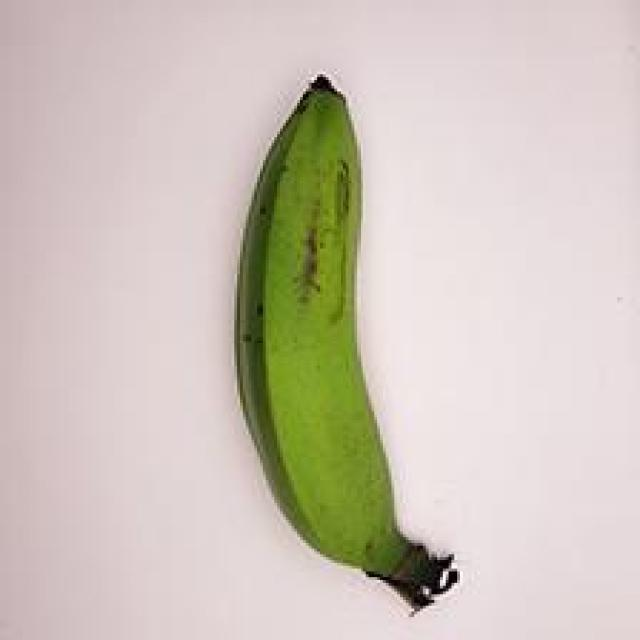Raw: (202, 49, 482, 628)
